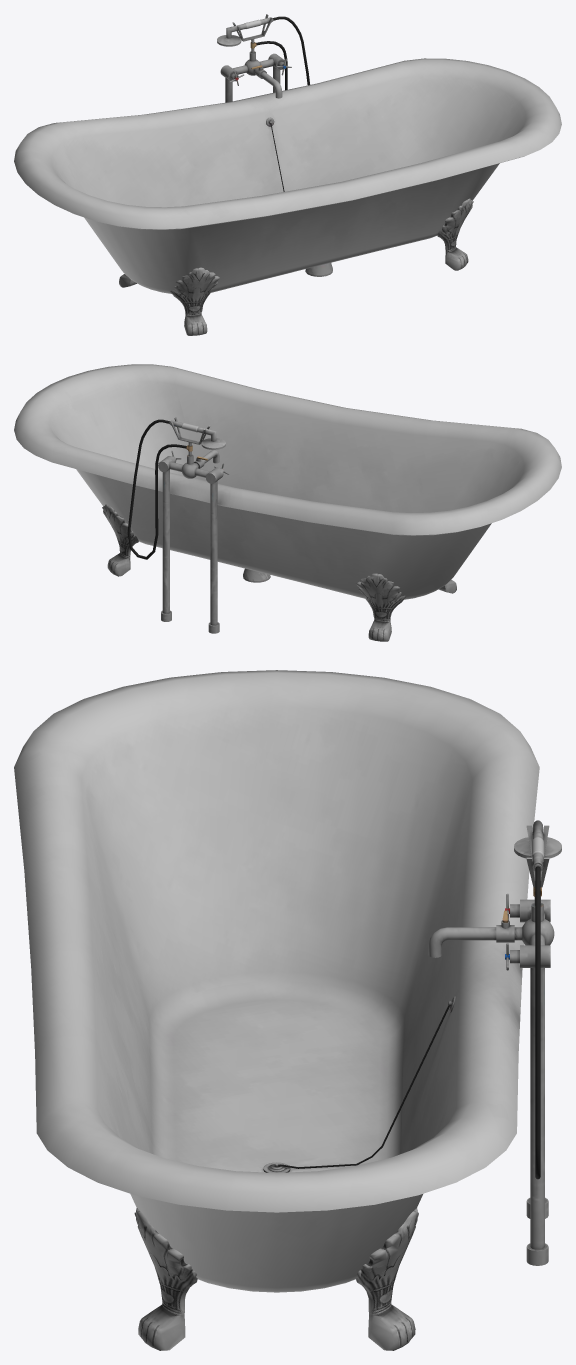
File: bathtub_3ddominator.glb
3 renders of one model, top to bottom at view 1: azimuth 30°, elevation 25°; view 2: azimuth 150°, elevation 25°; view 3: azimuth 270°, elevation 25°, orthographic. The views are drawn at different scales.
Parts seen in each view (by area): view 1: SM_Bathtub_Material #3_0; view 2: SM_Bathtub_Material #3_0; view 3: SM_Bathtub_Material #3_0.
Part boxes in pixels (x1=…): SM_Bathtub_Material #3_0: x1=14, y1=14, x2=561, y2=335; SM_Bathtub_Material #3_0: x1=14, y1=364, x2=561, y2=641; SM_Bathtub_Material #3_0: x1=14, y1=670, x2=561, y2=1350.
Bounding box in the file's own units: 186 × 71.36 × 89.29.
Materials: 1 (1 with a texture image).
